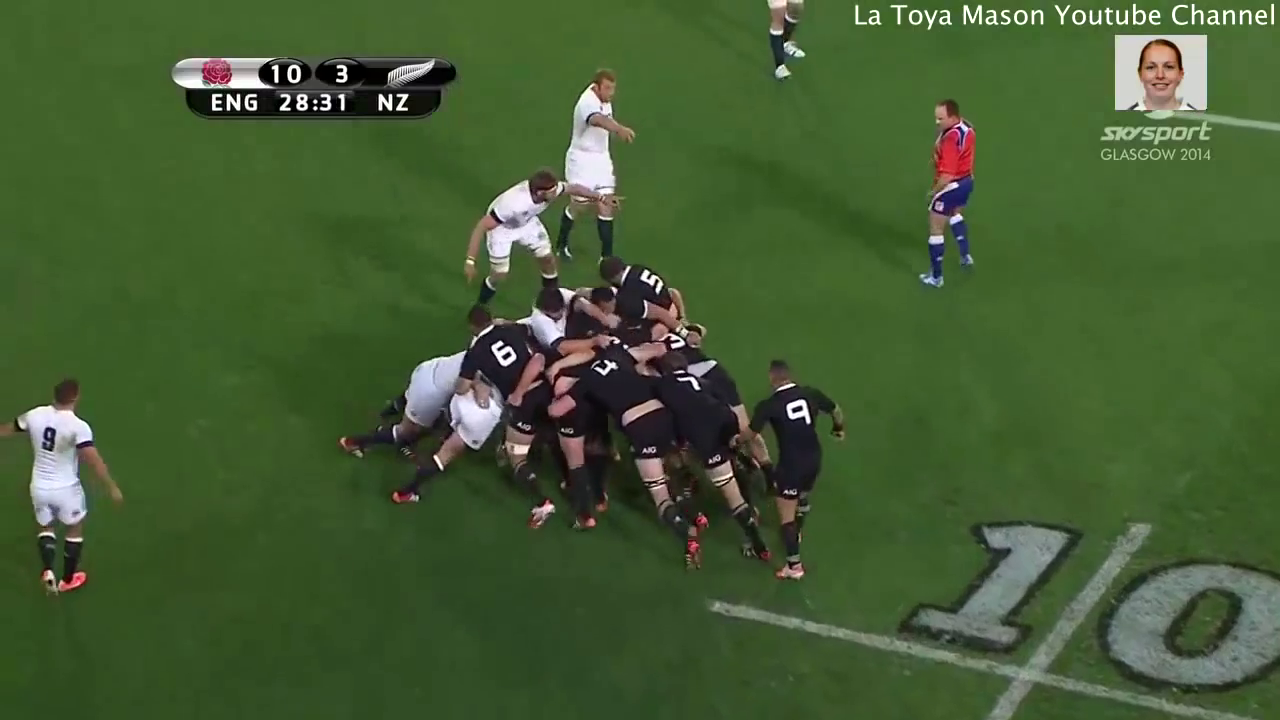10_metre: (697, 510, 1280, 720)
player: (545, 342, 726, 580), (640, 339, 795, 584), (437, 160, 633, 337), (1, 356, 133, 605), (741, 345, 853, 595), (462, 308, 573, 552), (541, 58, 648, 286), (325, 329, 475, 465), (382, 369, 513, 513), (909, 92, 985, 299), (600, 253, 694, 346), (757, 1, 816, 88)
